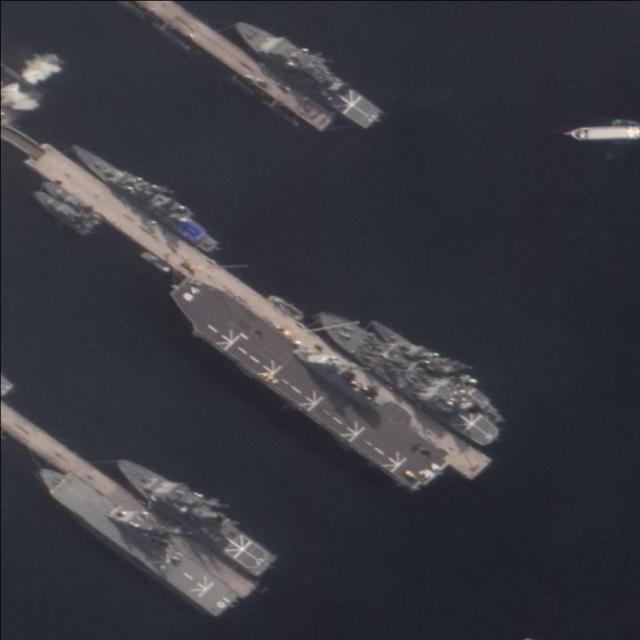Auxiliary Ships: (310, 302, 504, 451), (107, 446, 278, 578), (227, 12, 383, 132)
Destroyer: (161, 264, 453, 501)
Dock: (27, 142, 491, 481)
Frigate: (66, 132, 226, 257), (364, 306, 518, 426)
Landing: (28, 453, 239, 619)
